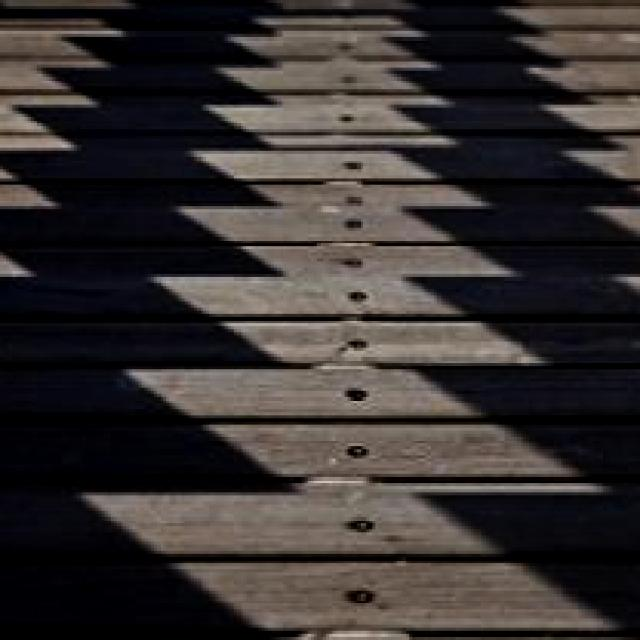upstair: (1, 296, 640, 640)
